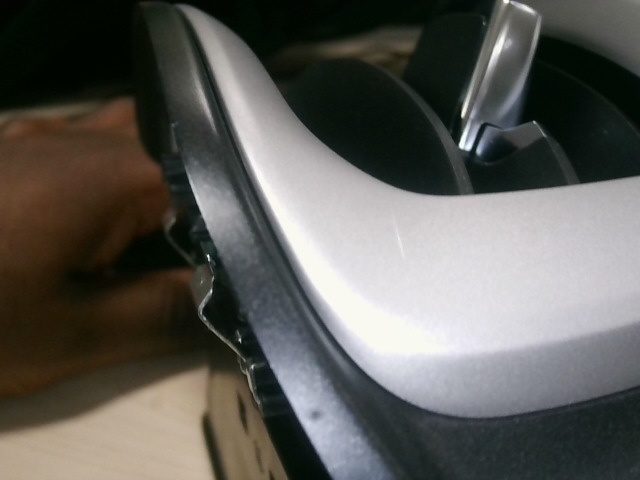NG: (383, 204, 412, 262)
